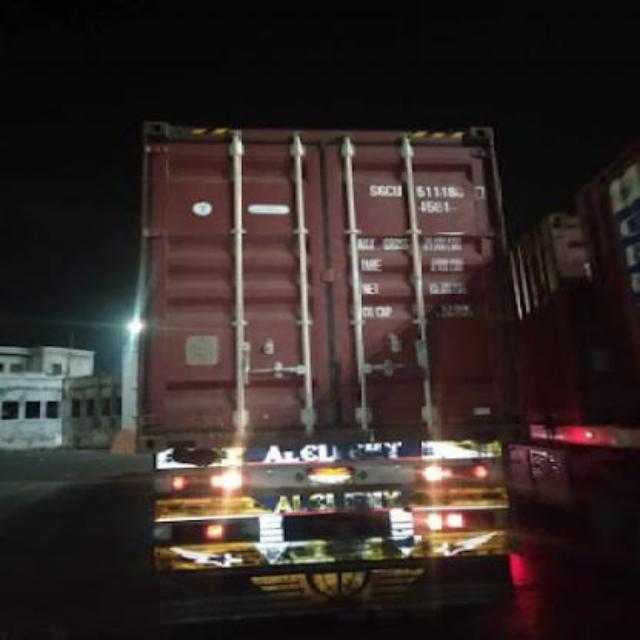0: (456, 182, 464, 200)
1: (426, 184, 432, 200), (432, 186, 440, 198), (440, 186, 448, 198)
5: (414, 182, 426, 198)
7: (474, 182, 488, 202)
8: (448, 185, 456, 199)
C: (384, 185, 394, 198)
G: (376, 182, 386, 198)
S: (368, 184, 376, 198)
U: (394, 184, 402, 198)
